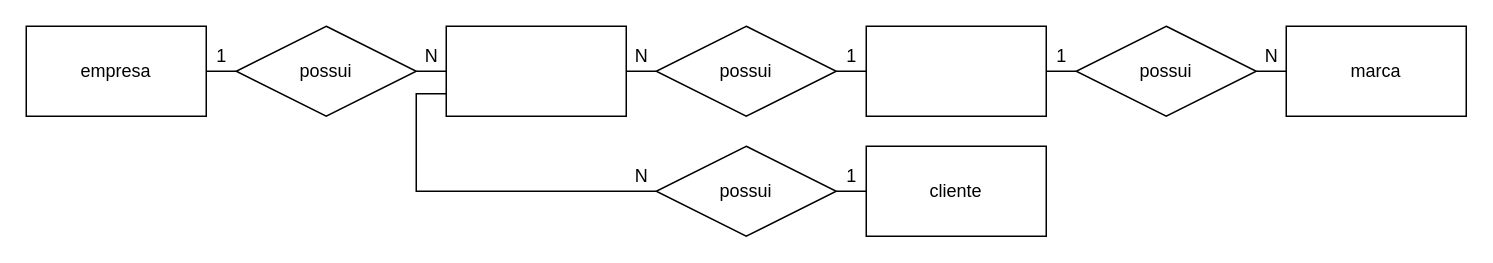
This 1493x263 diagram has some shape labels left out. The shapes that lost their labels are listed below. From the top down, each one's box as (x1, y1, x2, y2) in pixels, then its label:
(445, 25, 626, 116): veículo
(865, 25, 1046, 116): modelo
